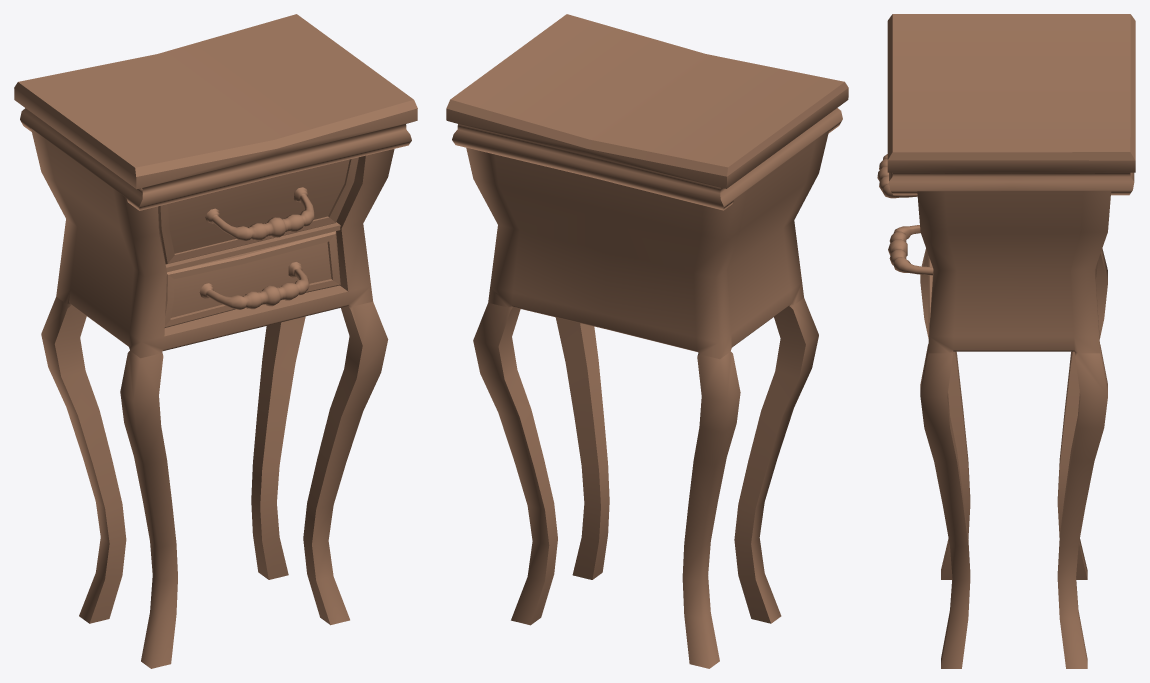
File: SM_Commode_03_Final_UV_Clean.fbx
3 views of the same model, side by side, from view 1: azimuth 30°, elevation 25°; view 2: azimuth 150°, elevation 25°; view 3: azimuth 270°, elevation 25° (orthographic).
Parts seen in each view (by area): view 1: SM_Meubles_Commode_03_Final_UV, SM_Tiroir_01_Meubles_Commode_02_Final_UV, SM_Tiroir_02_Meubles_Commode_02_Final_UV; view 2: SM_Meubles_Commode_03_Final_UV; view 3: SM_Meubles_Commode_03_Final_UV, SM_Tiroir_02_Meubles_Commode_02_Final_UV, SM_Tiroir_01_Meubles_Commode_02_Final_UV.
Part boxes in pixels (x1,y1,x2,y2): SM_Meubles_Commode_03_Final_UV: (14, 14, 417, 668); SM_Tiroir_01_Meubles_Commode_02_Final_UV: (158, 157, 358, 264); SM_Tiroir_02_Meubles_Commode_02_Final_UV: (164, 231, 340, 327); SM_Meubles_Commode_03_Final_UV: (446, 14, 848, 668); SM_Meubles_Commode_03_Final_UV: (887, 14, 1135, 668); SM_Tiroir_02_Meubles_Commode_02_Final_UV: (888, 225, 933, 275); SM_Tiroir_01_Meubles_Commode_02_Final_UV: (877, 154, 917, 198).
Bounding box in the file's own units: 0.6846 × 1.23 × 0.5352.
